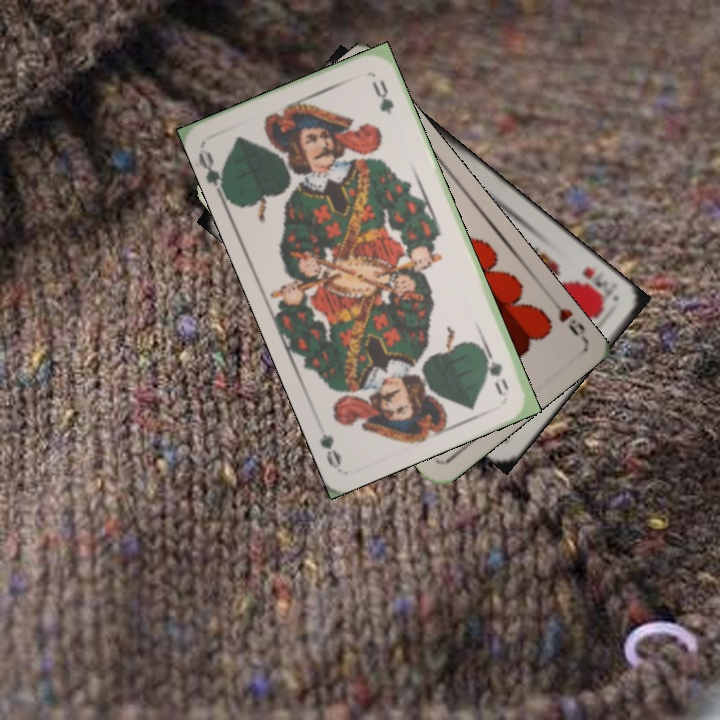GO: (194, 145, 229, 202), (477, 341, 512, 392)
H9: (554, 304, 587, 339)
HK: (578, 263, 614, 301)
